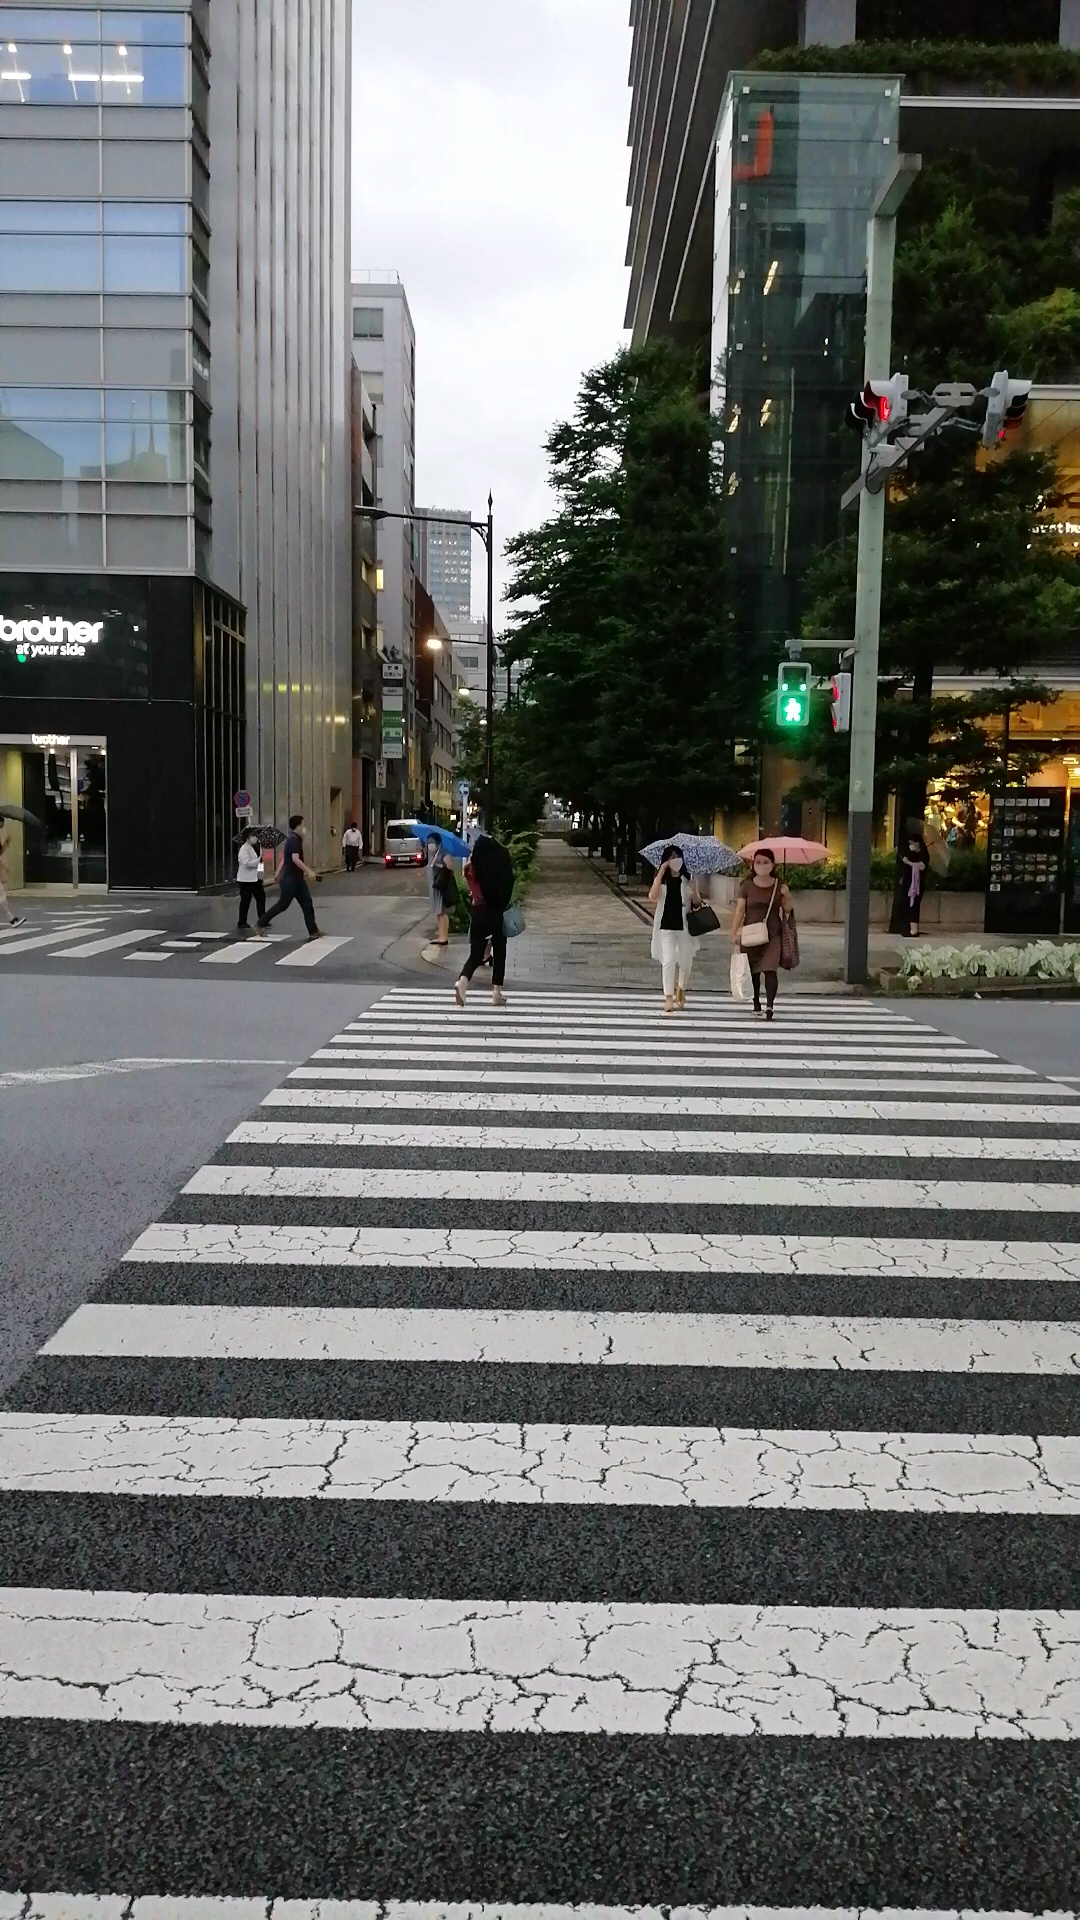green: (775, 659, 808, 729)
